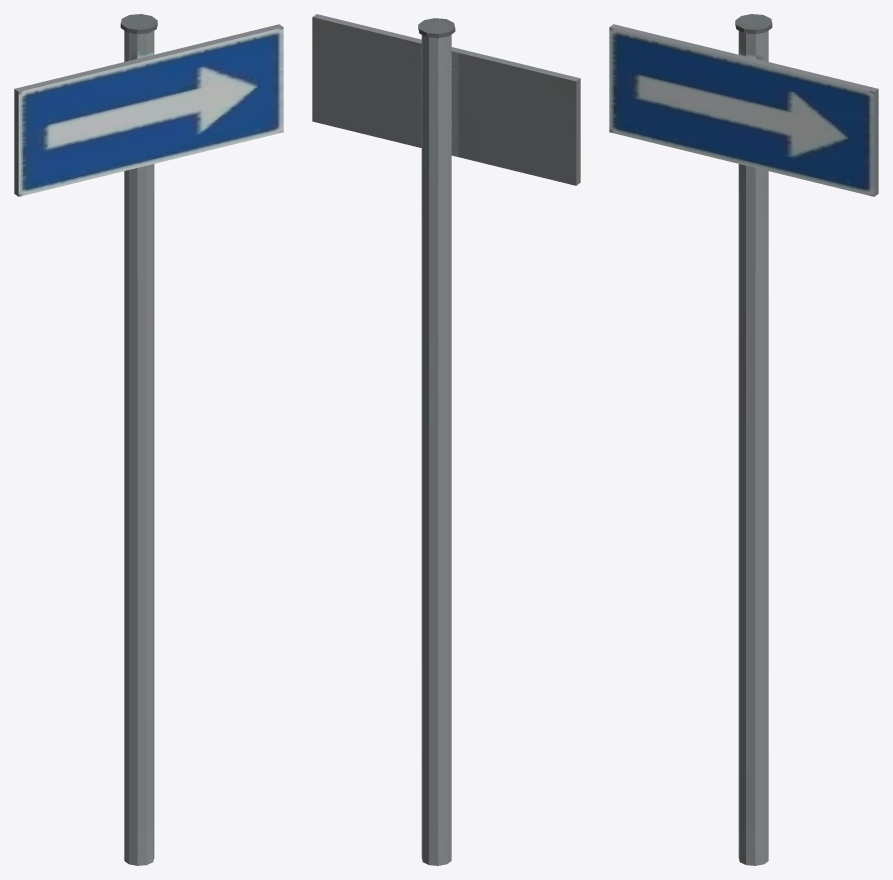
The model's file is sign_oneWay.glb.
3 renders of one model, left to right at view 1: azimuth 30°, elevation 25°; view 2: azimuth 150°, elevation 25°; view 3: azimuth 330°, elevation 25°, orthographic.
Parts seen in each view (by area): view 1: sign_oneWay_LOD0; view 2: sign_oneWay_LOD0; view 3: sign_oneWay_LOD0.
Part boxes in pixels (x1=…): sign_oneWay_LOD0: x1=14, y1=14, x2=283, y2=865; sign_oneWay_LOD0: x1=312, y1=14, x2=580, y2=865; sign_oneWay_LOD0: x1=609, y1=14, x2=878, y2=865.
Size of what is drawn, in the model's own units: 0.8984 by 2.71 by 0.127.
Materials: 1 (1 with a texture image).
